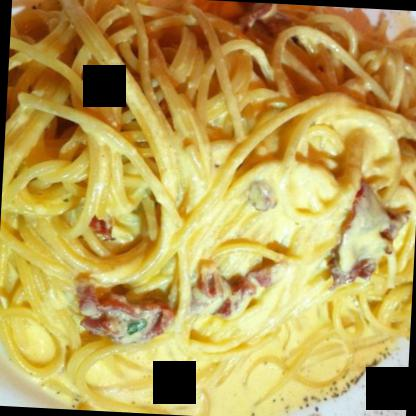pasta: (0, 0, 415, 414)
